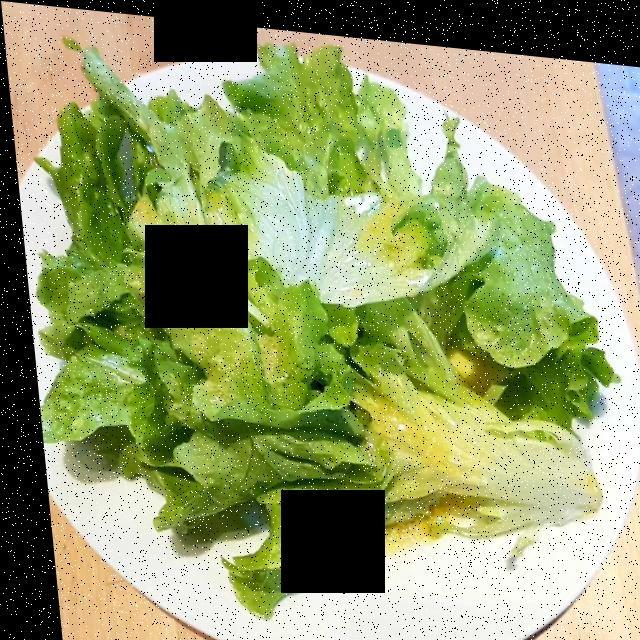salad: (40, 48, 586, 609)
